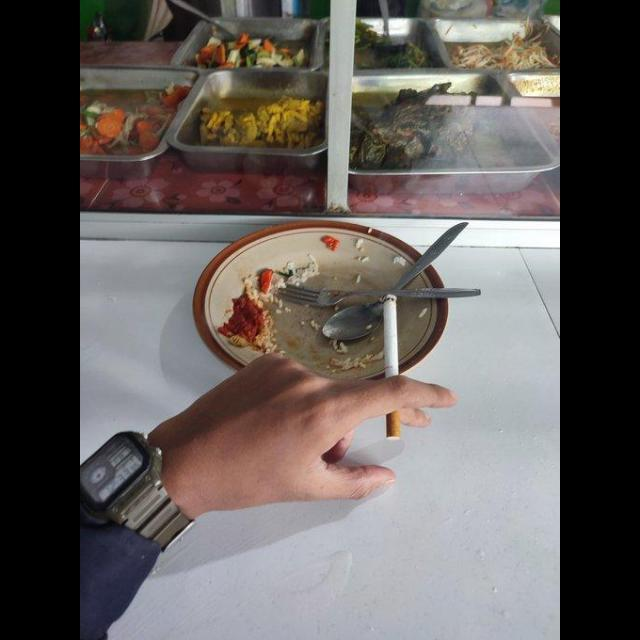rokok: (377, 292, 409, 444)
